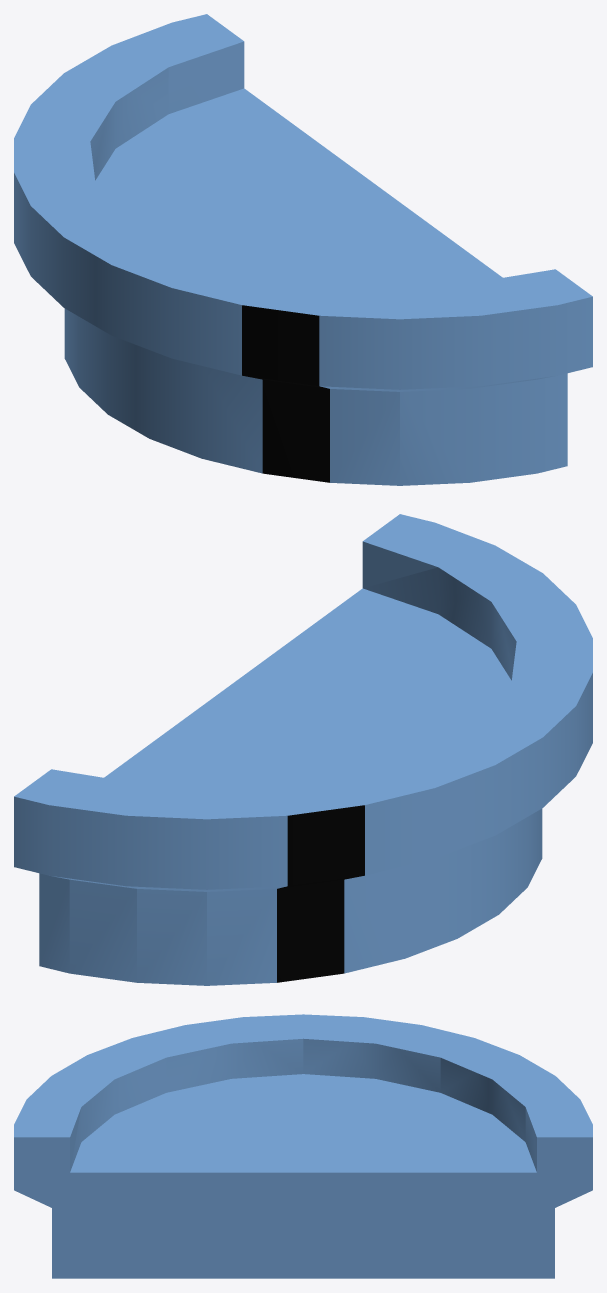
File: br-m-pipe-aquaB.fbx
3 views of the same model, one above another, from view 1: azimuth 30°, elevation 25°; view 2: azimuth 150°, elevation 25°; view 3: azimuth 270°, elevation 25° (orthographic). The views are drawn at different scales.
Visible parts, largest first — view 1: pipeB_aqua_m; view 2: pipeB_aqua_m; view 3: pipeB_aqua_m.
Boxes of the visible parts, <box> form: pipeB_aqua_m: <box>14,14,592,485</box>; pipeB_aqua_m: <box>14,514,592,985</box>; pipeB_aqua_m: <box>14,1014,592,1278</box>.
Size of the model in its own units: 93.5 by 50 by 186.
